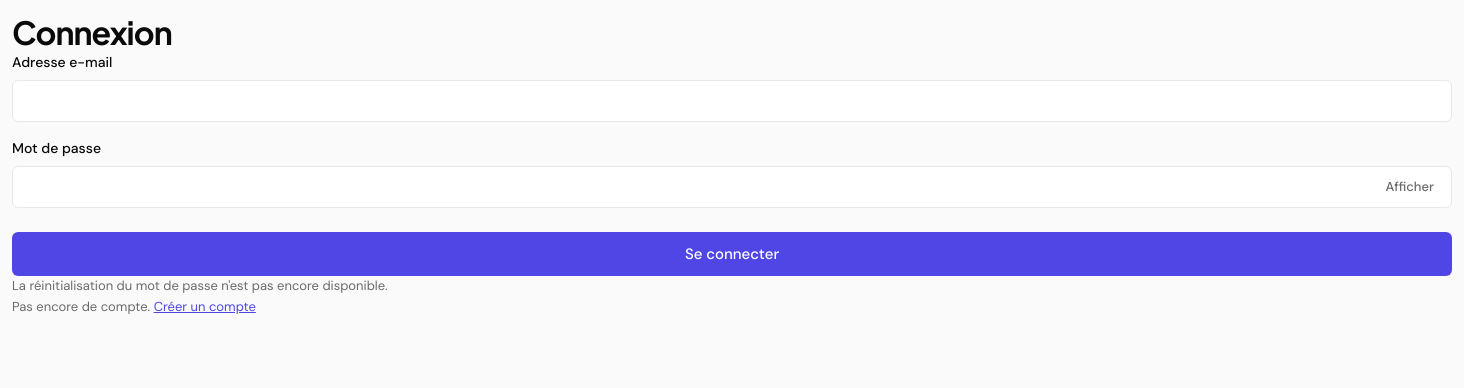
Test: Formulaire de connexion — erreurs renvoyées par l'action › CA25 — E1 et E4 : chaque message sous son champ, aria-invalid, focus sur l'e-mail, pas de E7
What coordinates should you click on to do the following:
click the button "Se connecter"
I would click on:
 (732, 254)
Its box is [12,232,1452,276].
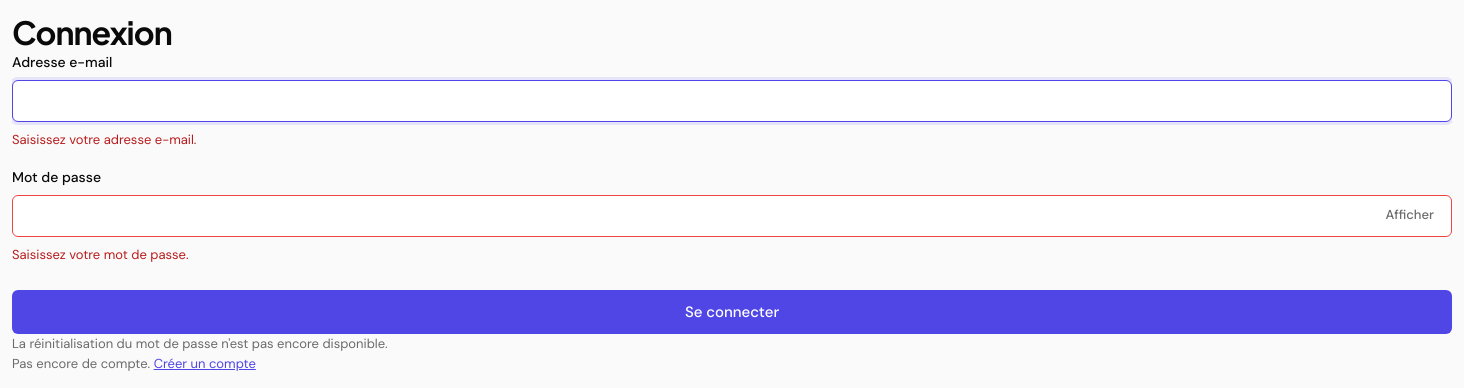
Expected: the text "Saisissez votre adresse e-mail." is shown, [12,131,196,148]
